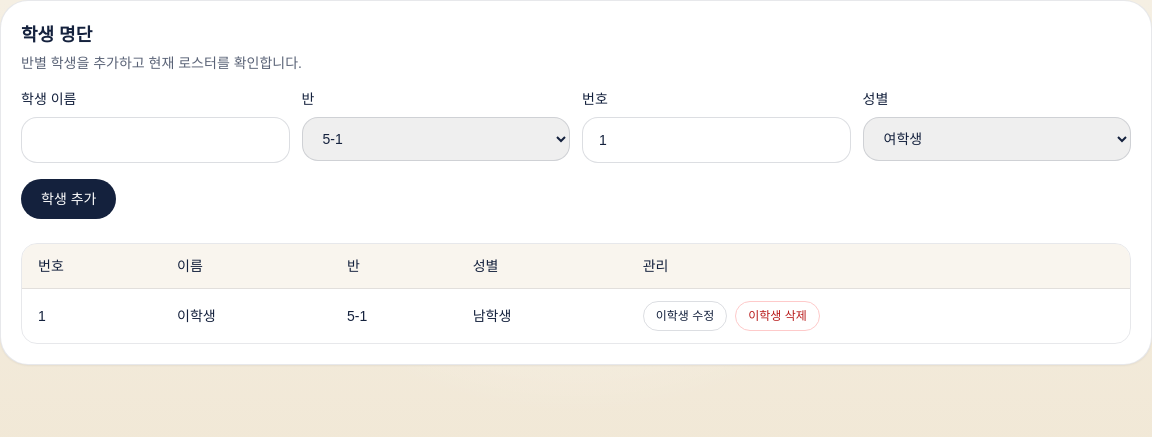
Test: teacher local mutation refresh behavior › updates the student table locally and only syncs the next version baseline
Type "김학생" into the field labelled "학생 이름" at (155, 140), box [21,117,290,163]
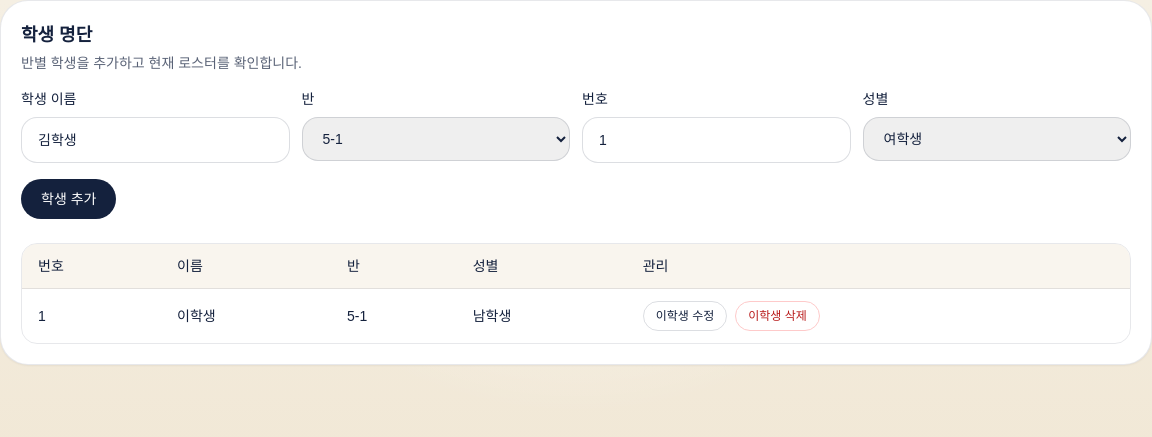
Replace the text in the field labelled "번호" with "2" at (716, 140), box [582,117,850,163]
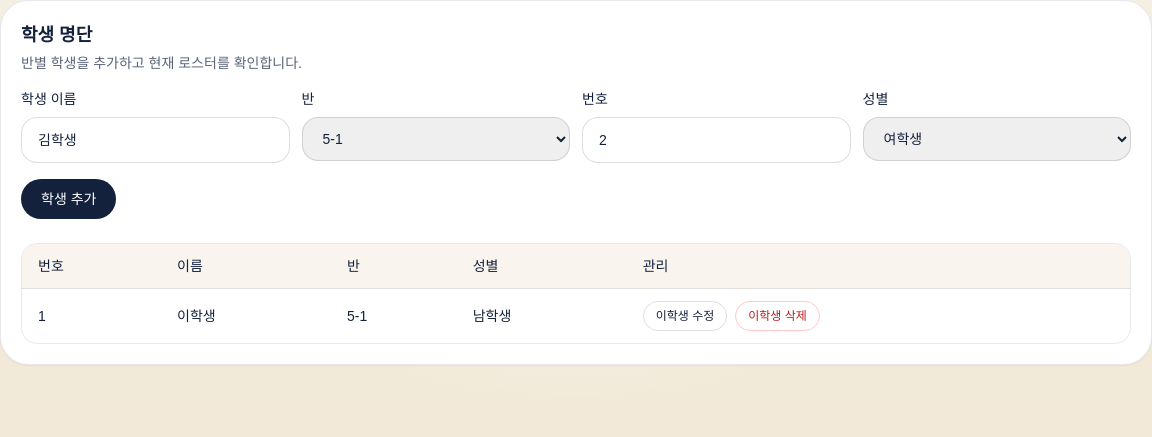
Select "여학생" in the dropdown labelled "성별" at (997, 139), box [862,117,1131,161]
Click the button "학생 추가" at (69, 199), box [21,179,116,219]
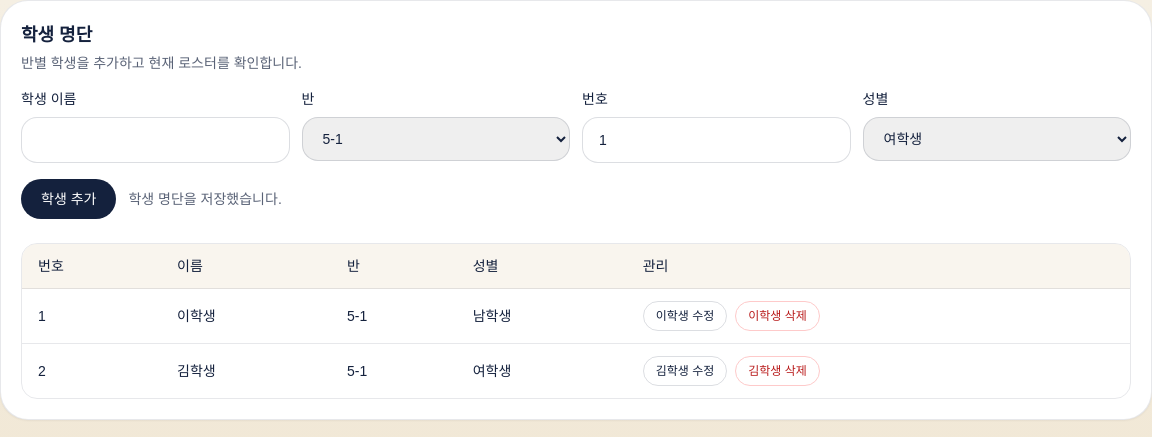
Result: the text "학생 명단을 저장했습니다." is shown at [128,189,282,209]
Result: the text "김학생" is shown at [161,344,331,398]
